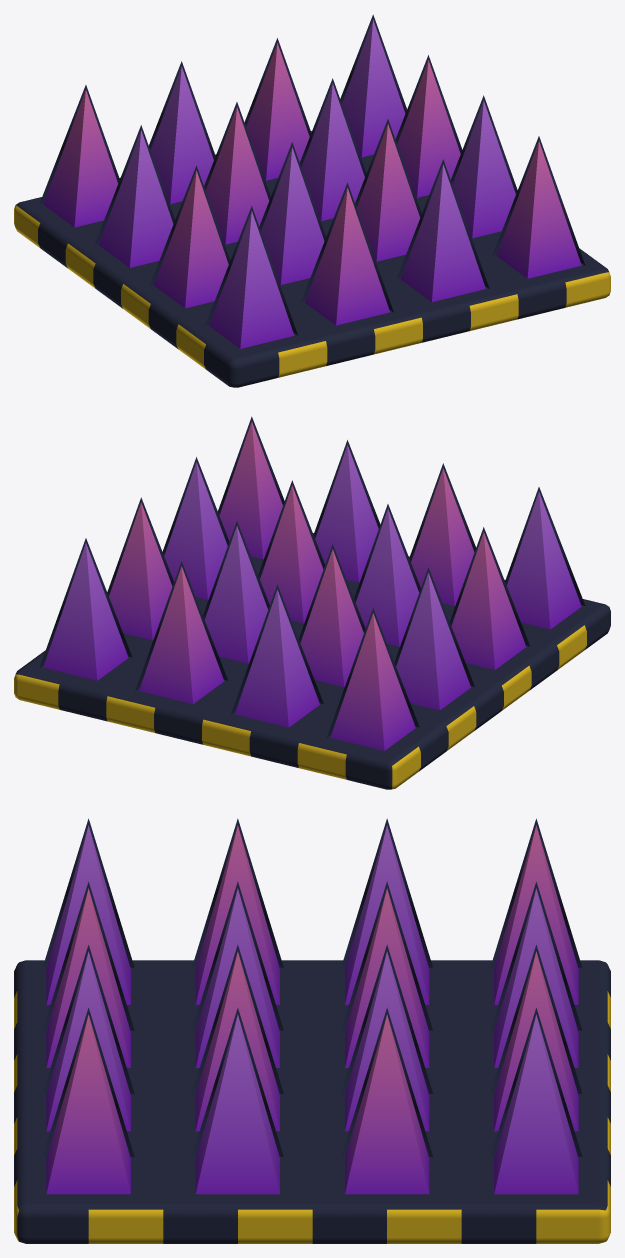
Rendered from HAZ_Spikes.glb.
The picture shows the model from 3 angles, top to bottom: view 1: azimuth 30°, elevation 25°; view 2: azimuth 150°, elevation 25°; view 3: azimuth 270°, elevation 25°; orthographic projection. The views are drawn at different scales.
Parts seen in each view (by area): view 1: Spikes, Base, SpikesOutline; view 2: Spikes, Base, SpikesOutline; view 3: Spikes, Base, SpikesOutline.
Boxes of the visible parts, x1,y1,x2,y2 form: Spikes: (43, 19, 581, 348); Base: (14, 131, 610, 387); SpikesOutline: (39, 14, 585, 335); Spikes: (43, 421, 581, 750); Base: (14, 533, 610, 789); SpikesOutline: (39, 416, 585, 737); Spikes: (46, 825, 578, 1194); Base: (14, 960, 610, 1243); SpikesOutline: (42, 818, 582, 1156).
Size of the model in its own units: 2 by 0.775 by 2.
